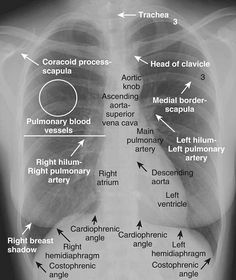telestration: (27, 158, 91, 184), (36, 78, 79, 116), (44, 243, 101, 270), (167, 136, 226, 162), (100, 91, 140, 126), (41, 56, 111, 75), (153, 242, 205, 267), (25, 117, 91, 134), (125, 127, 164, 154), (152, 96, 208, 113), (118, 230, 169, 248), (6, 236, 53, 253), (69, 225, 119, 240), (151, 169, 194, 185), (149, 59, 212, 68), (157, 191, 189, 208), (154, 113, 177, 132), (96, 168, 121, 185), (121, 73, 143, 89), (138, 9, 169, 20), (20, 51, 39, 67), (70, 139, 84, 156), (116, 11, 137, 20), (134, 55, 148, 65), (21, 222, 31, 235), (57, 229, 68, 240), (201, 256, 211, 268), (182, 81, 191, 93), (135, 221, 144, 229), (176, 231, 185, 238), (89, 216, 97, 223)
